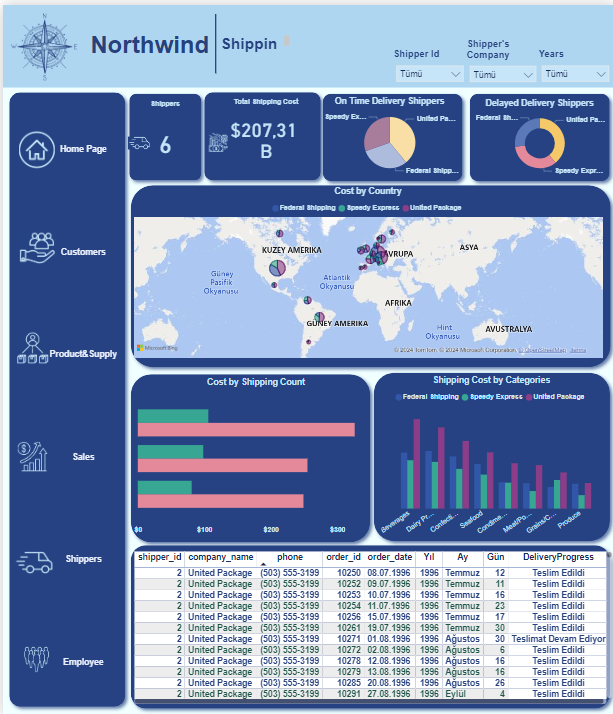

The dashboard page shown, as its layout file describes it:
{"tool":"powerbi","page":{"name":"Shippers","canvas":[950,1100],"ordinal":4},"visuals":[{"type":"shape","box":[0,0,950.6,128],"z":0},{"type":"shape","box":[187.3,269.8,763.5,301.6],"z":1000},{"type":"shape","box":[0,126.4,199.3,972],"z":2000},{"type":"textbox","box":[129.9,33.8,206.5,57.1],"z":3000},{"type":"image","box":[-0.4,-0.4,129.9,123.4],"z":4000},{"type":"shape","box":[323.4,14.3,13,92.2],"z":5000},{"type":"textbox","box":[332.3,41.9,116.1,40.3],"z":6000},{"type":"shape","box":[564.4,561.6,385.6,280.6],"z":7000},{"type":"slicer","title":"Years","fields":{"Values":["Dates.Years"]},"box":[826.2,68.3,123.8,65.2],"z":8000},{"type":"slicer","title":"Shipper Id","fields":{"Values":["shippers.shipper_id"]},"box":[599.2,68.1,123.8,64.9],"z":9000},{"type":"slicer","title":"Shipper''s Company","fields":{"Values":["shippers.company_name"]},"box":[713.7,51.2,122.6,73.8],"z":10000},{"type":"shape","box":[301.2,125.6,200,156.1],"z":11000},{"type":"card","title":"Total Shipping Cost","fields":{"Values":["Sum(order details.freight)"]},"box":[335.9,143.6,146.2,115.4],"z":12000},{"type":"shape","box":[184.9,128,131.2,153.8],"z":13000},{"type":"card","title":"Shippers","fields":{"Values":["CountNonNull(shippers.shipper_id)"]},"box":[206.8,145.5,88.6,122.7],"z":14000},{"type":"clusteredColumnChart","title":"Shipping Cost by Categories","fields":{"Y":["Sum(order details.freight)"],"Category":["products.category_name"],"Series":["shippers.company_name"]},"box":[582,574,351,256],"z":15000},{"type":"map","title":"Cost by Country","fields":{"Size":["Sum(order details.freight)"],"Series":["shippers.company_name"],"Category":["order details.ship_country"]},"box":[198.4,281,736.5,269.8],"z":16000},{"type":"shape","box":[187.5,562,390.7,280.1],"z":17000},{"type":"clusteredBarChart","title":"Cost by Shipping Count","fields":{"Y":["Avg(order details.freight)","Count(order details.order_id)"],"Category":["shippers.company_name"]},"box":[198,576,389,252],"z":18000},{"type":"shape","box":[486.8,127.9,236,155],"z":19000},{"type":"pieChart","title":"On Time Delivery Shippers","fields":{"Y":["DAX.OnTimeOrders"],"Category":["shippers.company_name"]},"box":[490.8,141.4,217.2,127.6],"z":20000},{"type":"shape","box":[713.7,128.5,236.3,155],"z":21000},{"type":"donutChart","title":"Delayed Delivery Shippers","fields":{"Y":["DAX.DelayedOrders"],"Category":["shippers.company_name"]},"box":[727.6,143.7,208,125.3],"z":22000},{"type":"shape","box":[187.5,827.3,762.5,272.7],"z":23000},{"type":"tableEx","fields":{"Values":["shippers.shipper_id","shippers.company_name","shippers.phone","order details.order_id","order details.order_date","order details.shipped_date.Varyasyon.Tarih Hiyerarşisi.Yıl","order details.shipped_date.Varyasyon.Tarih Hiyerarşisi.Ay","order details.shipped_date.Varyasyon.Tarih Hiyerarşisi.Gün","DAX.DeliveryProgress"]},"box":[198.3,841.7,751.7,246.7],"z":24000},{"type":"image","box":[188.6,194.3,44.3,37.5],"z":25000},{"type":"image","box":[311,191.9,44.1,39.7],"z":26000},{"type":"pageNavigator","box":[46.1,144.7,156.6,955.3],"z":27000},{"type":"image","box":[17,187.2,72.3,70.2],"z":28000},{"type":"image","box":[19.4,338.7,68.5,72.6],"z":29000},{"type":"image","box":[14.9,495.7,61.7,72.3],"z":30000},{"type":"image","box":[17,672.3,61.7,57.4],"z":31000},{"type":"image","box":[12.8,834,70.2,59.6],"z":32000},{"type":"image","box":[23.9,989.1,57.6,51.1],"z":33000}]}

Visuals, with their boxes in screenshot pixels (x1, y1, x2, y2), scaled from the page's 950x1100 canvas onto the 613x714 screenshot:
shape: crop(0, 0, 612, 83)
shape: crop(121, 175, 612, 371)
shape: crop(0, 82, 129, 713)
textbox: crop(84, 22, 217, 59)
image: crop(0, 0, 84, 80)
shape: crop(209, 9, 217, 69)
textbox: crop(214, 27, 289, 53)
shape: crop(364, 365, 612, 547)
"Years" slicer: crop(533, 44, 612, 87)
"Shipper Id" slicer: crop(387, 44, 467, 86)
"Shipper''s Company" slicer: crop(461, 33, 540, 81)
shape: crop(194, 82, 323, 183)
"Total Shipping Cost" card: crop(217, 93, 311, 168)
shape: crop(119, 83, 204, 183)
"Shippers" card: crop(133, 94, 191, 174)
"Shipping Cost by Categories" clusteredColumnChart: crop(376, 373, 602, 539)
"Cost by Country" map: crop(128, 182, 603, 358)
shape: crop(121, 365, 373, 547)
"Cost by Shipping Count" clusteredBarChart: crop(128, 374, 379, 537)
shape: crop(314, 83, 466, 184)
"On Time Delivery Shippers" pieChart: crop(317, 92, 457, 175)
shape: crop(461, 83, 612, 184)
"Delayed Delivery Shippers" donutChart: crop(469, 93, 604, 175)
shape: crop(121, 537, 612, 713)
tableEx - shippers.shipper_id x shippers.company_name: crop(128, 546, 612, 706)
image: crop(122, 126, 150, 150)
image: crop(201, 125, 229, 150)
pageNavigator: crop(30, 94, 131, 713)
image: crop(11, 122, 58, 167)
image: crop(13, 220, 57, 267)
image: crop(10, 322, 49, 369)
image: crop(11, 436, 51, 474)
image: crop(8, 541, 54, 580)
image: crop(15, 642, 53, 675)
